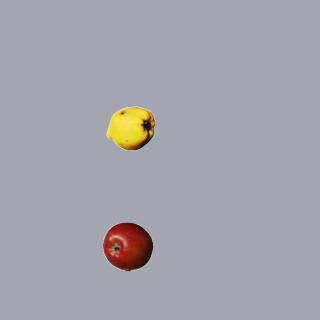Apple Braeburn: (102, 221, 152, 271)
Quince: (105, 103, 155, 153)
